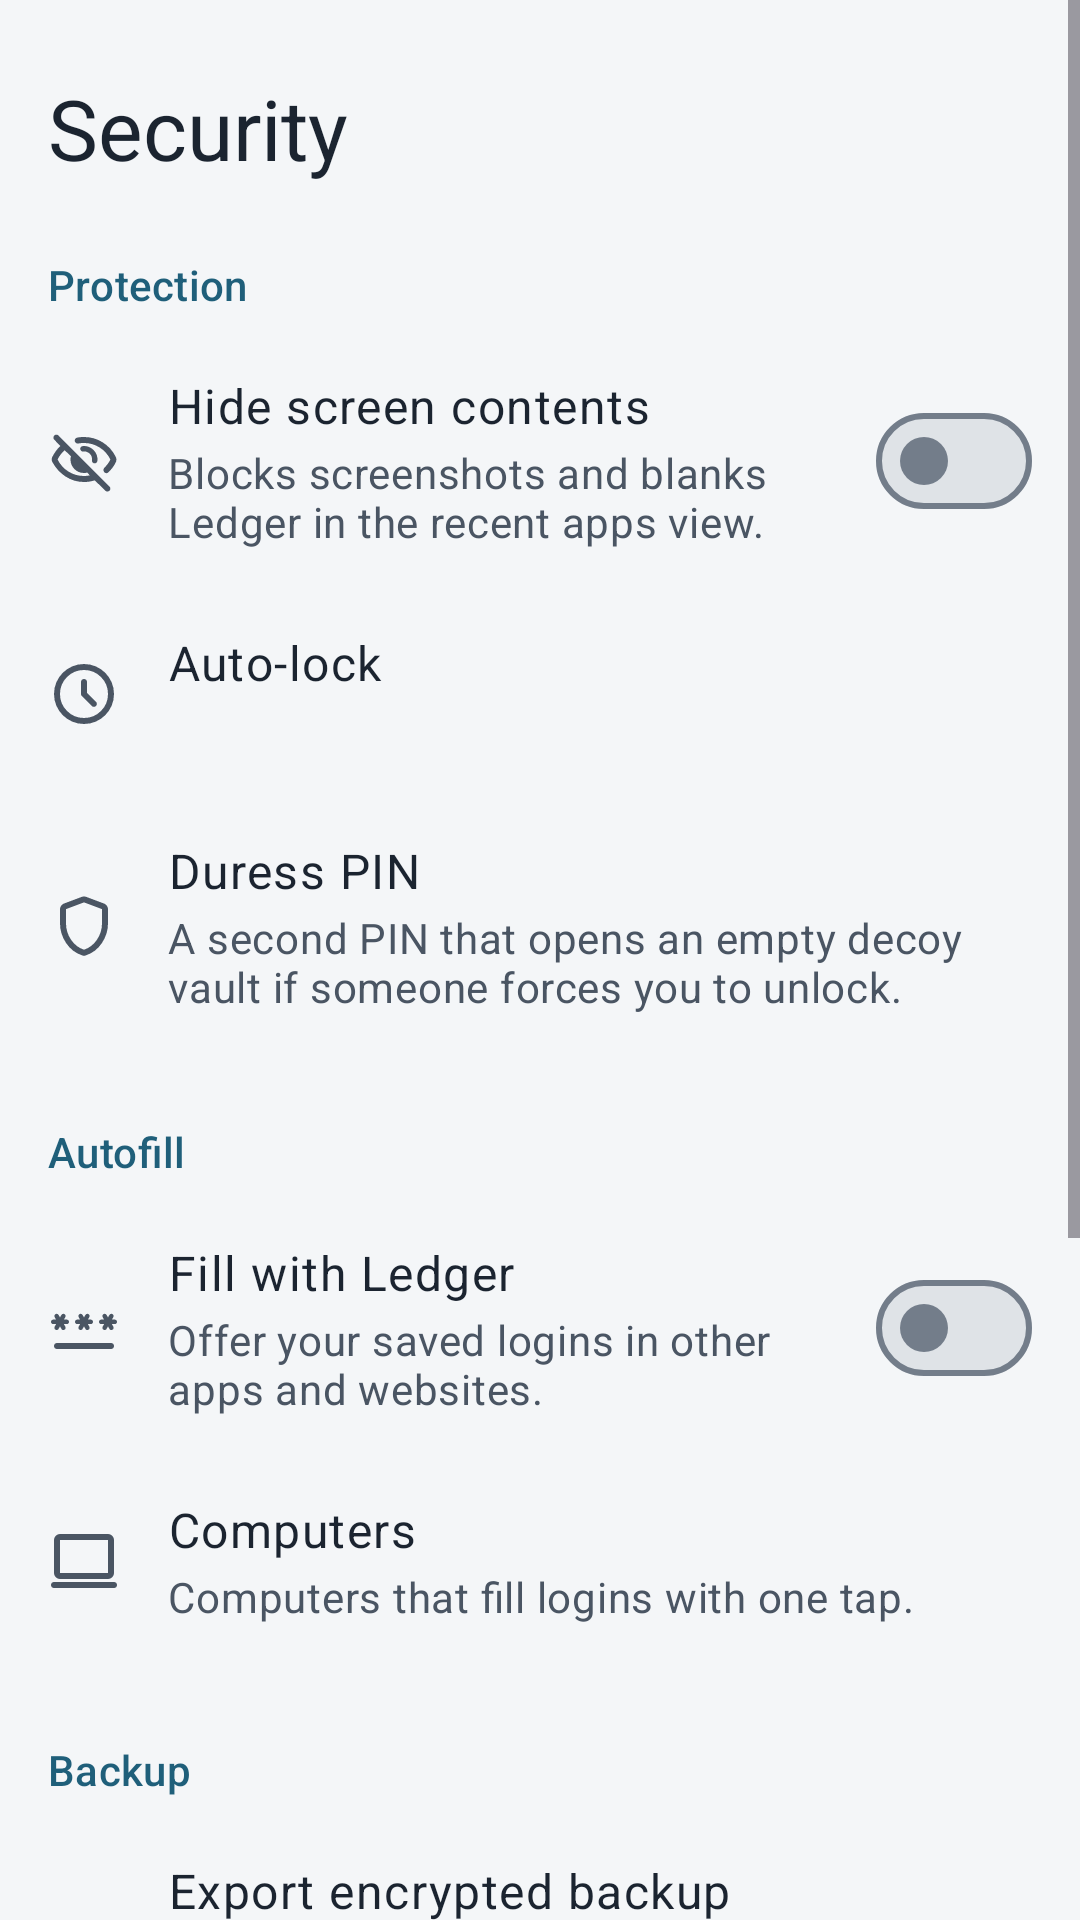

Icons on this 1080 x 1920 Android screen, each with the point to tap as (x=x, y=y):
password: (x=84, y=1331)
schedule: (x=84, y=694)
shield: (x=84, y=926)
visibility off: (x=84, y=463)
